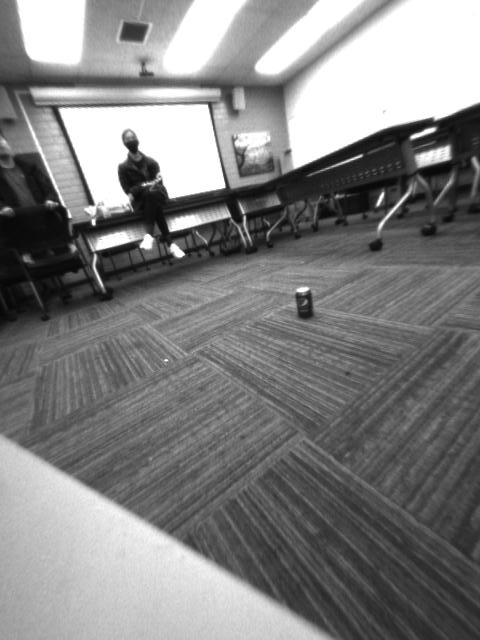can: (293, 285, 315, 319)
